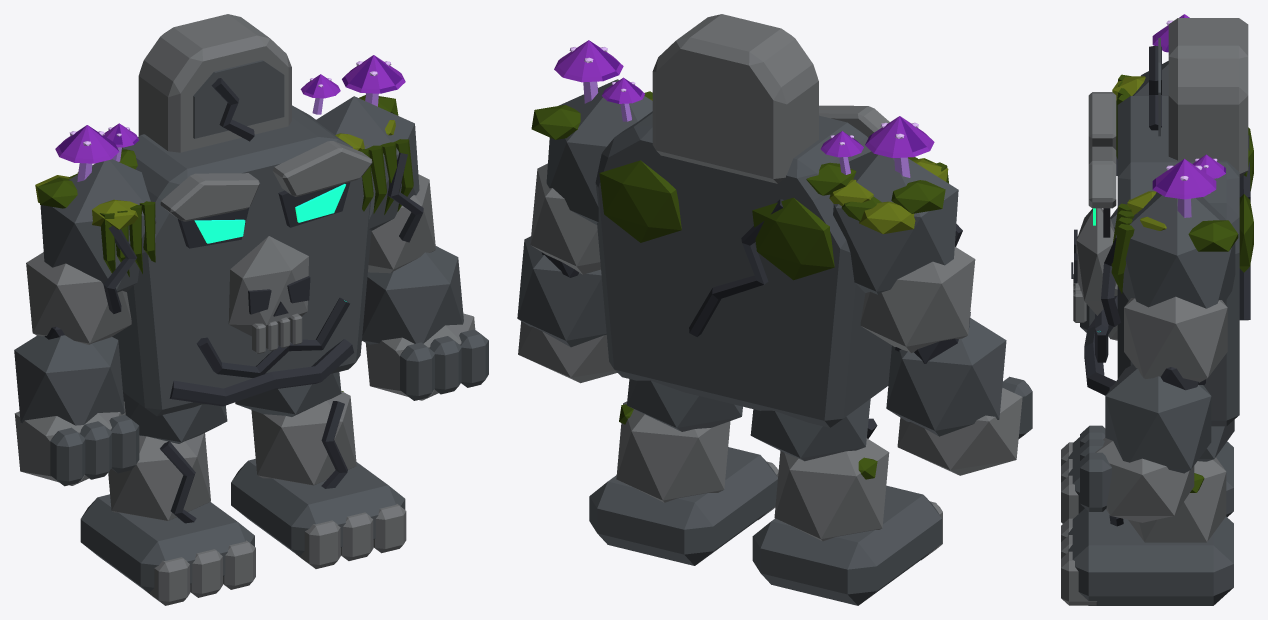
The model's file is GraveGolem.glb.
3 renders of one model, left to right at view 1: azimuth 30°, elevation 25°; view 2: azimuth 150°, elevation 25°; view 3: azimuth 270°, elevation 25°, orthographic. The views are drawn at different scales.
Visible parts, largest first — view 1: Ancient tombstone torso, Raised gravestone crown, Monolith foot-1, Forearm stone-1, Monolith foot1, Forearm stone1, Huge shoulder boulder-1, Stone shin1, Upper arm stone-1, Stone shin-1, Chest skull relief, Gravestone inset (+39 smaller); view 2: Ancient tombstone torso, Raised gravestone crown, Monolith foot-1, Monolith foot1, Forearm stone-1, Huge shoulder boulder-1, Stone shin-1, Stone shin1, Upper arm stone-1, Forearm stone1, Huge shoulder boulder1, Boulder fist-1 (+18 smaller); view 3: Monolith foot1, Raised gravestone crown, Ancient tombstone torso, Huge shoulder boulder1, Forearm stone1, Upper arm stone1, Boulder fist1, Stone shin1, Chest skull relief, Boulder eyebrow1, Shoulder mushroom1 pointed cap, Rock knuckle12 (+23 smaller).
Part boxes in pixels (x1=…): Ancient tombstone torso: x1=112, y1=105, x2=371, y2=416; Raised gravestone crown: x1=138, y1=14, x2=291, y2=152; Monolith foot-1: x1=80, y1=494, x2=254, y2=592; Forearm stone-1: x1=14, y1=335, x2=124, y2=425; Monolith foot1: x1=231, y1=459, x2=405, y2=555; Forearm stone1: x1=362, y1=246, x2=463, y2=344; Huge shoulder boulder-1: x1=40, y1=159, x2=156, y2=292; Stone shin1: x1=251, y1=391, x2=356, y2=485; Upper arm stone-1: x1=26, y1=252, x2=131, y2=344; Stone shin-1: x1=108, y1=433, x2=210, y2=520; Chest skull relief: x1=228, y1=236, x2=308, y2=336; Gravestone inset: x1=193, y1=60, x2=284, y2=138; Ancient tombstone torso: x1=595, y1=111, x2=891, y2=427; Raised gravestone crown: x1=652, y1=14, x2=818, y2=183; Monolith foot-1: x1=752, y1=485, x2=941, y2=605; Monolith foot1: x1=589, y1=447, x2=777, y2=565; Forearm stone-1: x1=886, y1=318, x2=1006, y2=436; Huge shoulder boulder-1: x1=833, y1=151, x2=958, y2=294; Stone shin-1: x1=774, y1=438, x2=889, y2=541; Stone shin1: x1=616, y1=401, x2=730, y2=502; Upper arm stone-1: x1=860, y1=246, x2=975, y2=352; Forearm stone1: x1=517, y1=236, x2=606, y2=347; Huge shoulder boulder1: x1=546, y1=79, x2=652, y2=224; Boulder fist-1: x1=897, y1=388, x2=1022, y2=475; Monolith foot1: x1=1068, y1=508, x2=1233, y2=605; Raised gravestone crown: x1=1168, y1=18, x2=1248, y2=177; Ancient tombstone torso: x1=1117, y1=96, x2=1239, y2=426; Huge shoulder boulder1: x1=1122, y1=192, x2=1235, y2=308; Forearm stone1: x1=1105, y1=364, x2=1211, y2=473; Upper arm stone1: x1=1124, y1=296, x2=1227, y2=382; Boulder fist1: x1=1095, y1=438, x2=1194, y2=522; Stone shin1: x1=1128, y1=457, x2=1226, y2=542; Chest skull relief: x1=1076, y1=208, x2=1116, y2=315; Boulder eyebrow1: x1=1088, y1=146, x2=1116, y2=208; Shoulder mushroom1 pointed cap: x1=1152, y1=159, x2=1216, y2=199; Rock knuckle12: x1=1080, y1=452, x2=1111, y2=511.
Size of the model in its own units: 3.74 by 3.92 by 1.33.
